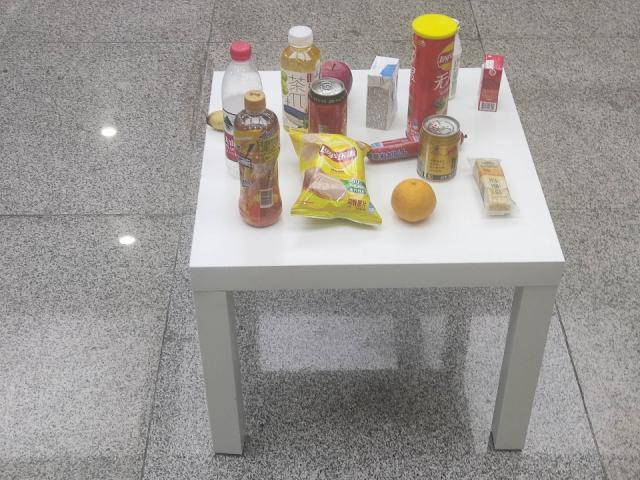Canned_drinks: (417, 114, 461, 182), (306, 77, 352, 138)
bottle: (230, 92, 281, 229), (219, 41, 266, 163)
cylinder: (404, 12, 463, 139)
drink_box: (361, 49, 400, 134), (474, 47, 506, 118)
